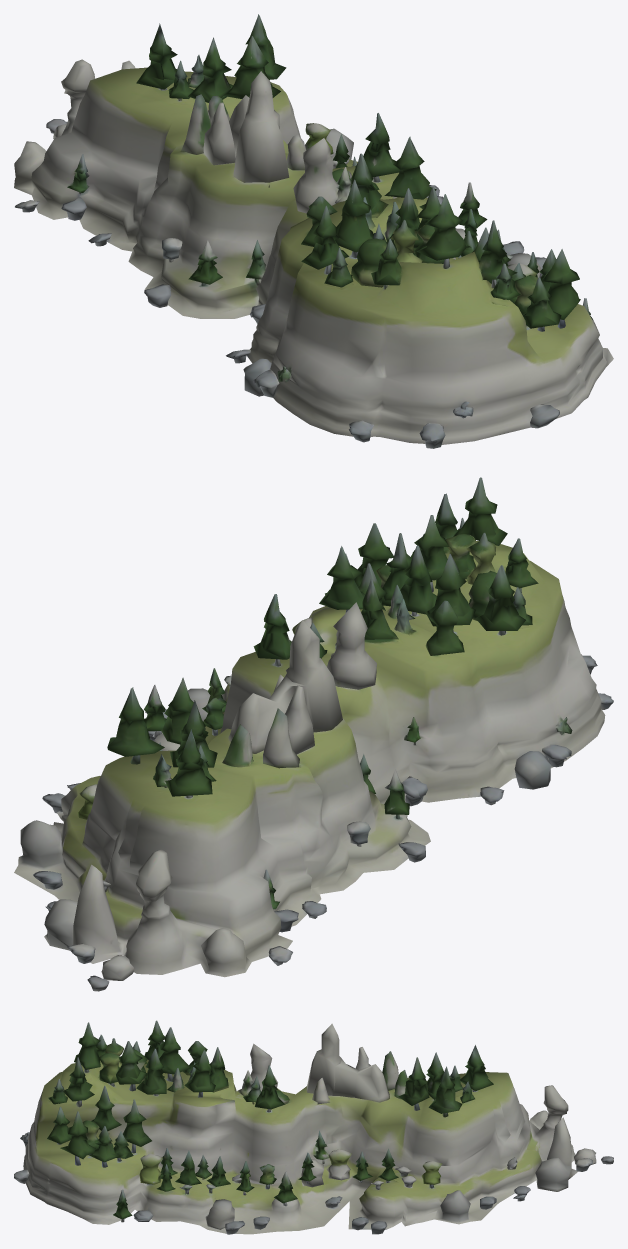
Rendered from isle_12_p1.glb.
3 views of the same model, one above another, from view 1: azimuth 30°, elevation 25°; view 2: azimuth 150°, elevation 25°; view 3: azimuth 270°, elevation 25° (orthographic). The views are drawn at different scales.
Visible parts, largest first — view 1: tripo_node_e1d0351f-1920-43ce-9957-77d328745bed; view 2: tripo_node_e1d0351f-1920-43ce-9957-77d328745bed; view 3: tripo_node_e1d0351f-1920-43ce-9957-77d328745bed.
Boxes of the visible parts, x1=… form: tripo_node_e1d0351f-1920-43ce-9957-77d328745bed: x1=14, y1=14, x2=613, y2=448; tripo_node_e1d0351f-1920-43ce-9957-77d328745bed: x1=14, y1=477, x2=613, y2=991; tripo_node_e1d0351f-1920-43ce-9957-77d328745bed: x1=14, y1=1020, x2=613, y2=1234.
Size of the model in its own units: 0.4629 by 0.2715 by 0.998.
1 material, 1 textured.
